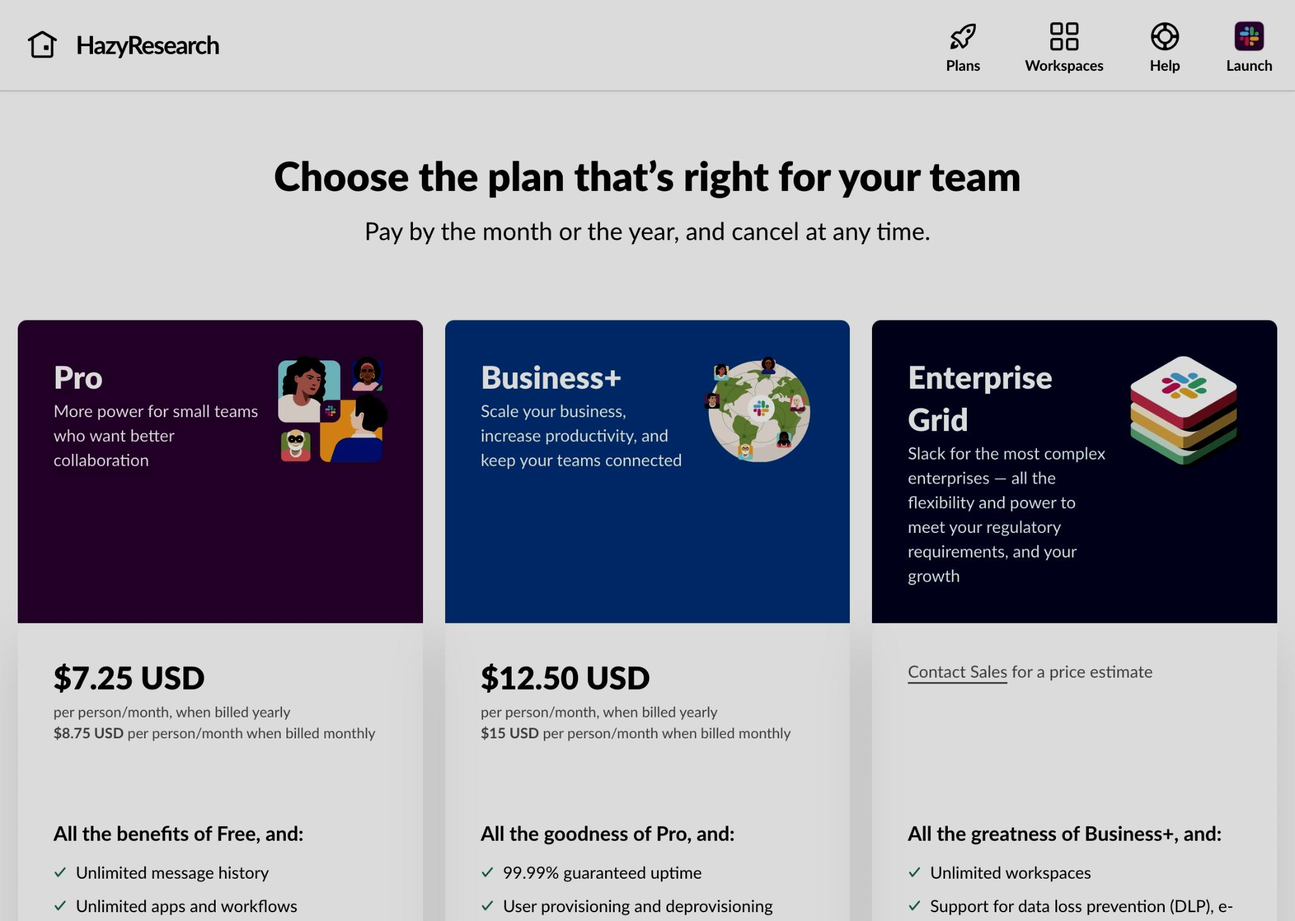webelement: (0, 0, 1294, 921), (0, 0, 249, 88), (1130, 354, 1241, 467), (276, 354, 386, 461), (703, 354, 813, 461), (1002, 0, 1125, 87), (930, 894, 1233, 921), (1203, 0, 1294, 87), (923, 0, 1002, 87), (1125, 0, 1202, 87), (480, 659, 648, 696), (53, 659, 204, 696), (75, 26, 221, 63), (501, 895, 771, 914), (75, 895, 296, 914), (502, 861, 700, 881), (75, 861, 267, 881), (930, 861, 1091, 881), (907, 661, 1006, 680), (1024, 53, 1103, 73), (52, 723, 122, 741), (1232, 18, 1265, 51), (480, 723, 537, 741), (1225, 53, 1272, 73), (945, 53, 979, 73), (1149, 53, 1179, 73)
